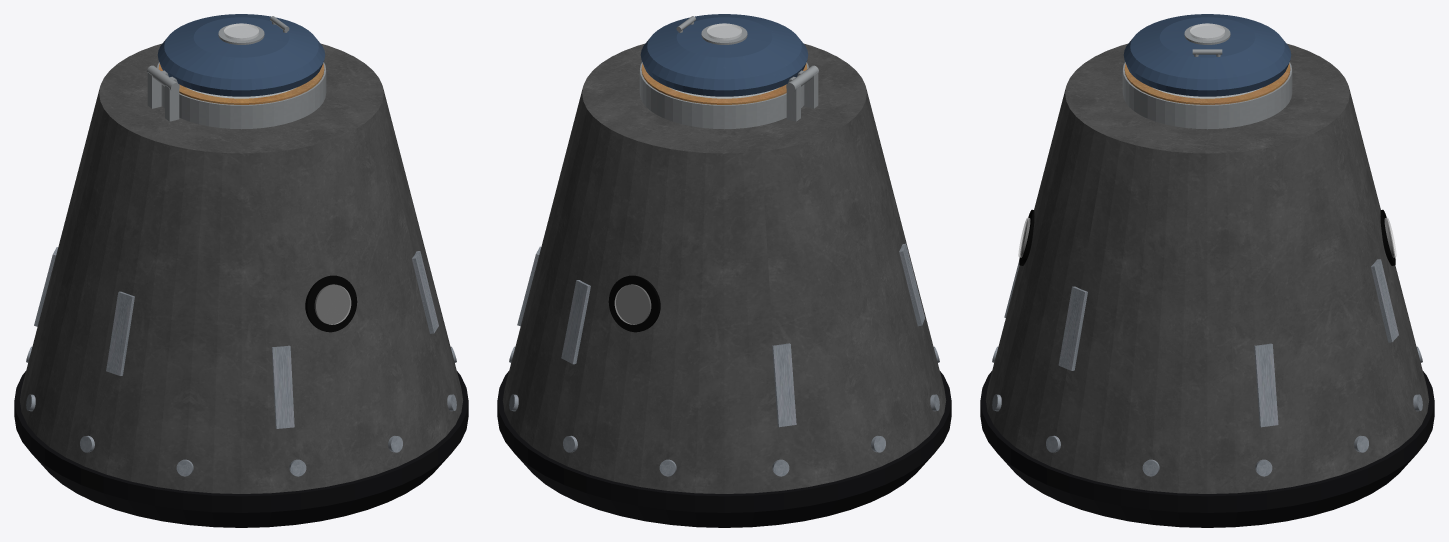
The model's file is Astronomy_Return_capsule__0014.glb.
3 views of the same model, side by side, from view 1: azimuth 30°, elevation 25°; view 2: azimuth 150°, elevation 25°; view 3: azimuth 270°, elevation 25° (orthographic).
Visible parts, largest first — view 1: capsule::bell_body, shield::heat_shield, hatch::lid_shell, capsule::hatch_collar, capsule::porthole_rim_1, capsule::scorch_streak_4, capsule::scorch_streak_3, capsule::hatch_seal_ring, capsule::porthole_glass_1, capsule::scorch_streak_5, hatch::viewport_rim; view 2: capsule::bell_body, shield::heat_shield, hatch::lid_shell, capsule::hatch_collar, capsule::porthole_rim_0, capsule::scorch_streak_2, capsule::scorch_streak_1, capsule::hatch_seal_ring, capsule::porthole_glass_0, hatch::viewport_rim, capsule::scorch_streak_3; view 3: capsule::bell_body, shield::heat_shield, hatch::lid_shell, capsule::hatch_collar, capsule::scorch_streak_0, capsule::scorch_streak_5, capsule::hatch_seal_ring, capsule::scorch_streak_1, hatch::viewport_rim.
Part boxes in pixels (x1=…): capsule::bell_body: x1=19, y1=43, x2=463, y2=493; shield::heat_shield: x1=14, y1=371, x2=468, y2=527; hatch::lid_shell: x1=157, y1=14, x2=325, y2=96; capsule::hatch_collar: x1=157, y1=62, x2=326, y2=129; capsule::porthole_rim_1: x1=305, y1=275, x2=357, y2=332; capsule::scorch_streak_4: x1=271, y1=345, x2=294, y2=428; capsule::scorch_streak_3: x1=106, y1=291, x2=134, y2=375; capsule::hatch_seal_ring: x1=158, y1=63, x2=324, y2=104; capsule::porthole_glass_1: x1=315, y1=284, x2=351, y2=324; capsule::scorch_streak_5: x1=412, y1=251, x2=438, y2=333; hatch::viewport_rim: x1=218, y1=24, x2=264, y2=44; capsule::bell_body: x1=502, y1=43, x2=946, y2=493; shield::heat_shield: x1=497, y1=371, x2=951, y2=527; hatch::lid_shell: x1=640, y1=14, x2=808, y2=96; capsule::hatch_collar: x1=639, y1=62, x2=808, y2=129; capsule::porthole_rim_0: x1=608, y1=275, x2=660, y2=332; capsule::scorch_streak_2: x1=772, y1=343, x2=796, y2=427; capsule::scorch_streak_1: x1=561, y1=280, x2=590, y2=364; capsule::hatch_seal_ring: x1=641, y1=63, x2=807, y2=104; capsule::porthole_glass_0: x1=614, y1=284, x2=650, y2=324; hatch::viewport_rim: x1=701, y1=24, x2=747, y2=44; capsule::scorch_streak_3: x1=899, y1=243, x2=924, y2=326; capsule::bell_body: x1=985, y1=43, x2=1429, y2=493; shield::heat_shield: x1=980, y1=371, x2=1434, y2=527; hatch::lid_shell: x1=1123, y1=14, x2=1291, y2=96; capsule::hatch_collar: x1=1122, y1=62, x2=1292, y2=129; capsule::scorch_streak_0: x1=1254, y1=343, x2=1278, y2=427; capsule::scorch_streak_5: x1=1058, y1=286, x2=1087, y2=370; capsule::hatch_seal_ring: x1=1124, y1=63, x2=1290, y2=104; capsule::scorch_streak_1: x1=1371, y1=259, x2=1398, y2=342; hatch::viewport_rim: x1=1184, y1=24, x2=1230, y2=44.
Bounding box in the file's own units: 2.18 × 2.3 × 2.18.
9 materials, 9 textured.
